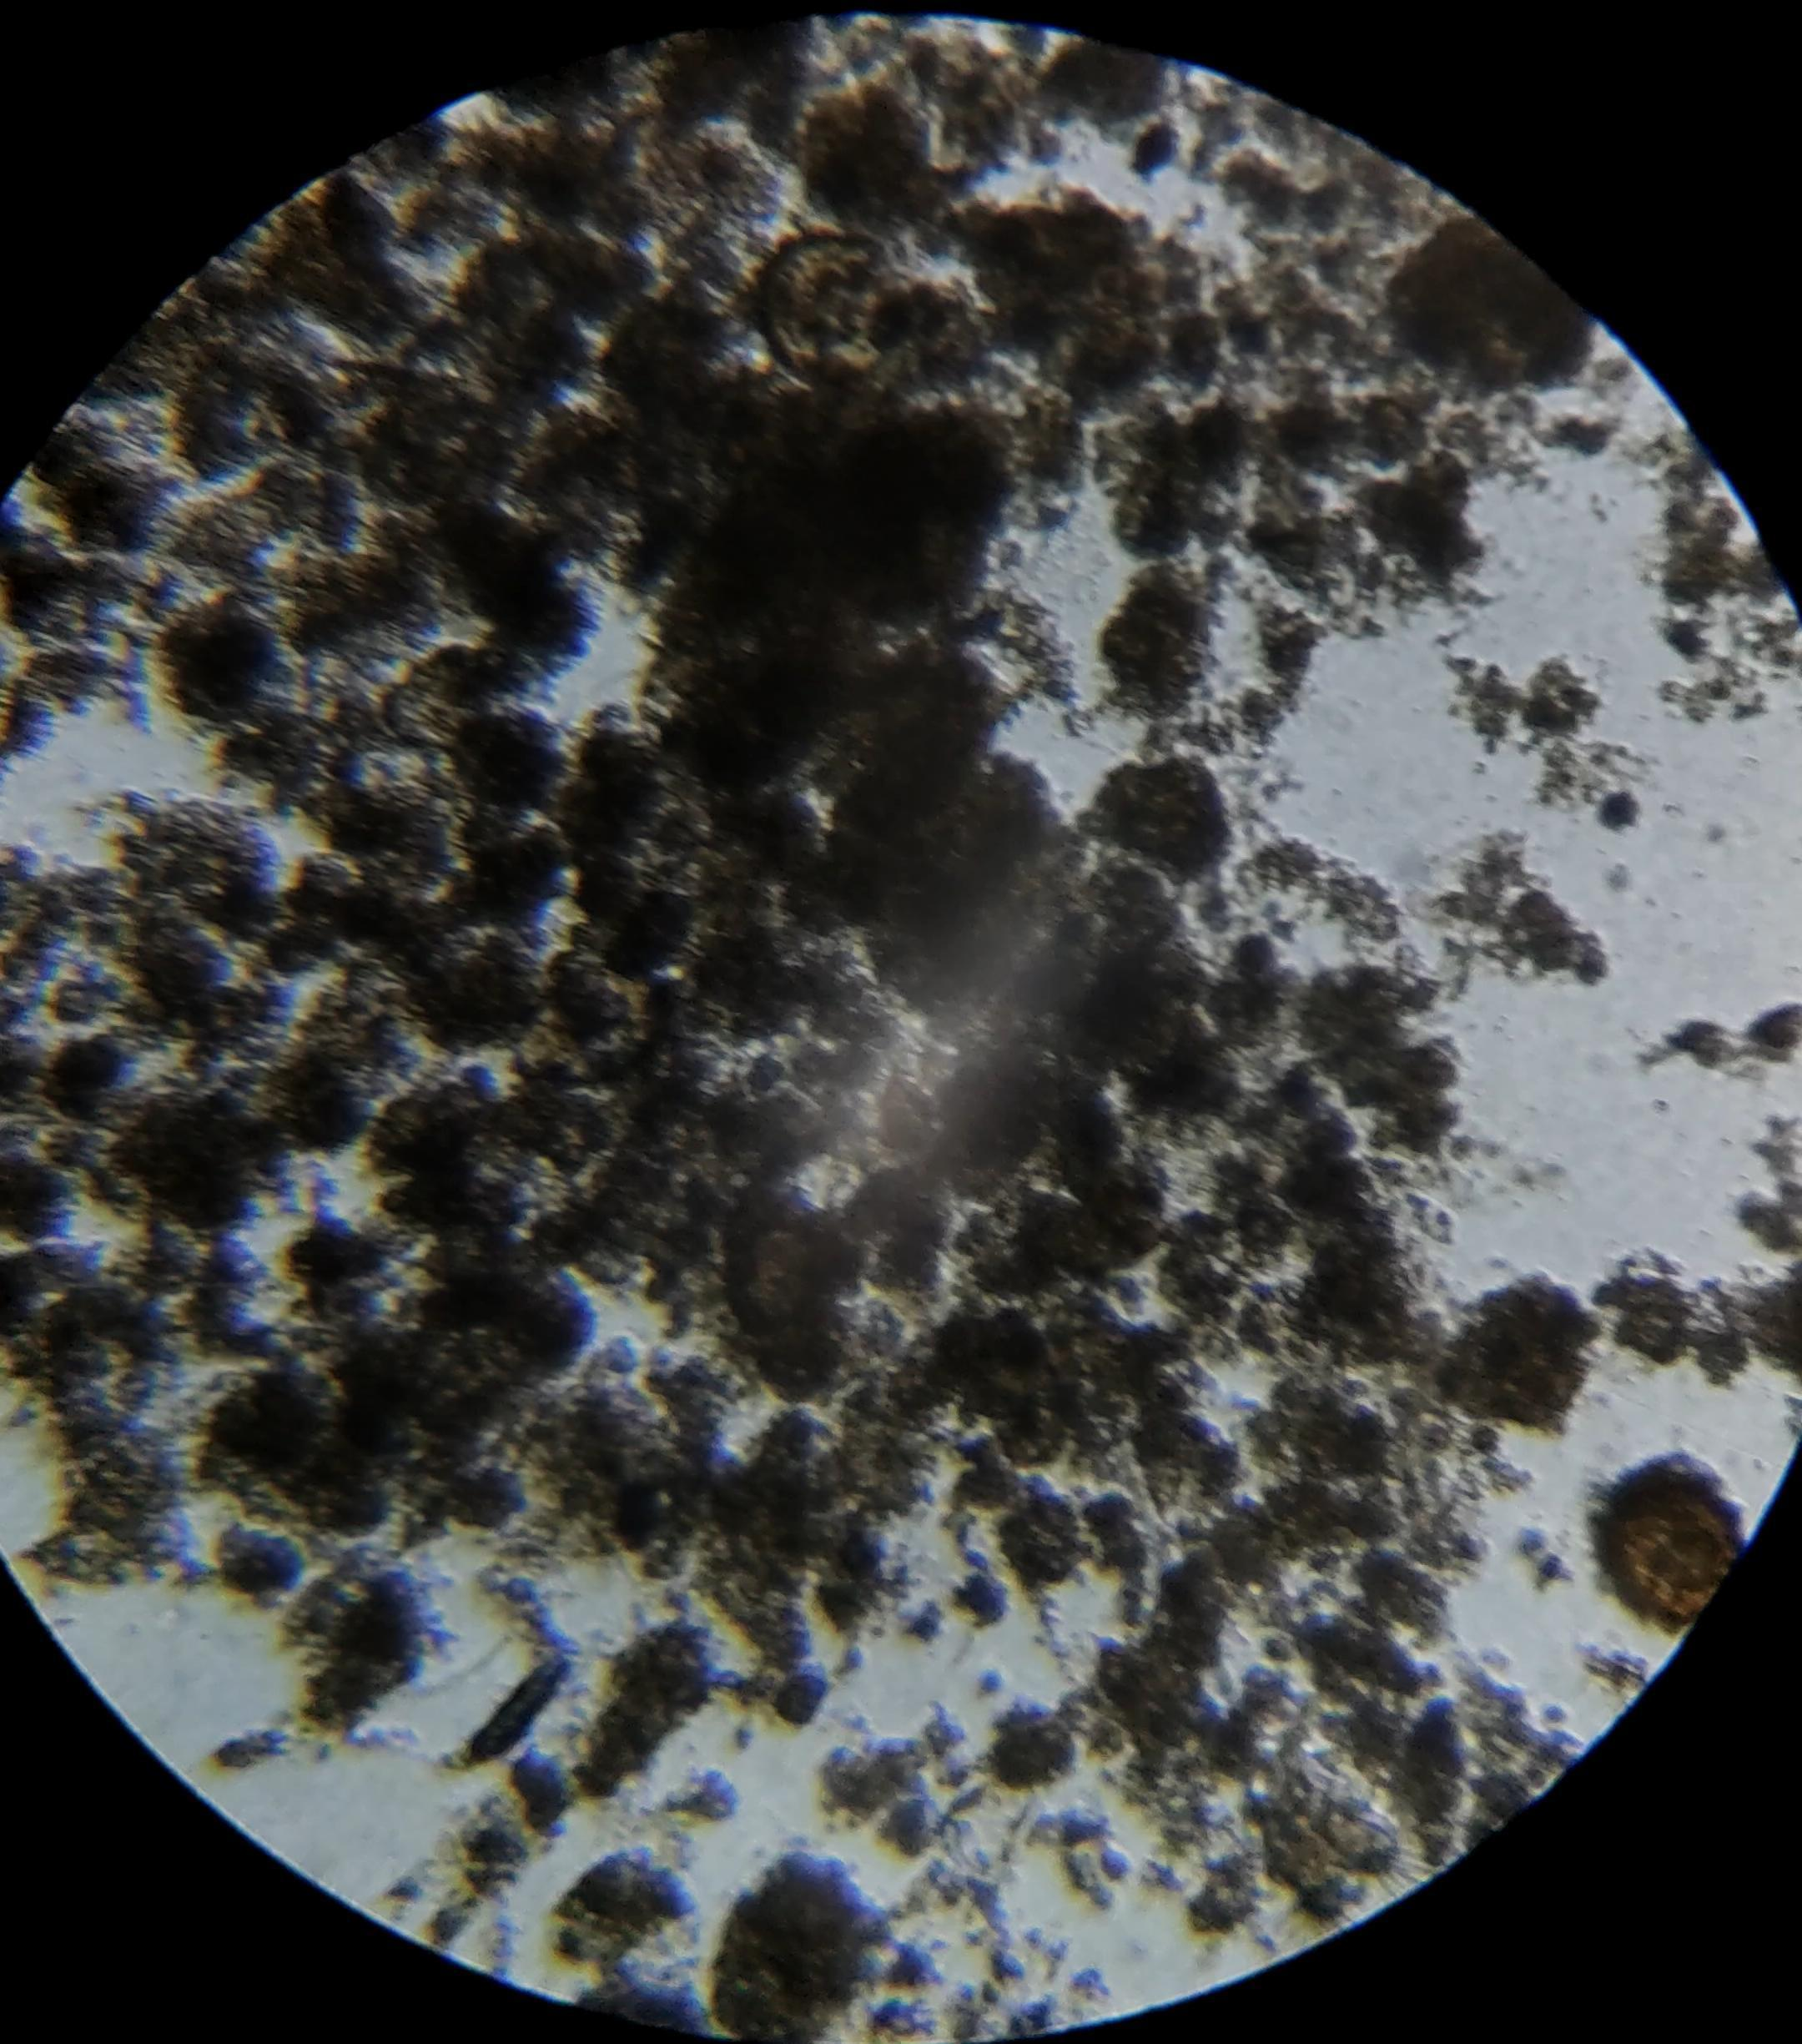Arcella: (762, 233, 899, 384), (1614, 1477, 1739, 1625)
